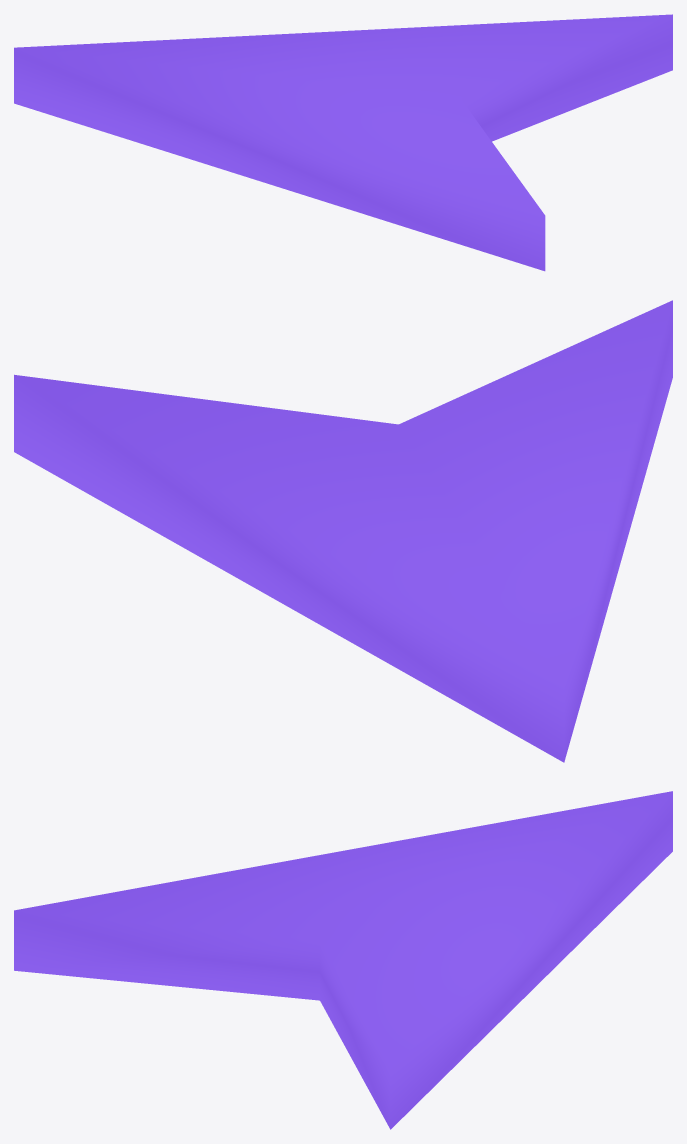
Rendered from arrow.glb.
3 renders of one model, top to bottom at view 1: azimuth 30°, elevation 25°; view 2: azimuth 150°, elevation 25°; view 3: azimuth 270°, elevation 25°, orthographic. The views are drawn at different scales.
Parts seen in each view (by area): view 1: NavigationArrow; view 2: NavigationArrow; view 3: NavigationArrow.
Part boxes in pixels (x1,y1,x2,y2): NavigationArrow: [14, 14, 672, 271]; NavigationArrow: [14, 300, 672, 762]; NavigationArrow: [14, 791, 672, 1129].
Bounding box in the file's own units: 1.98 × 0.2 × 1.98.
